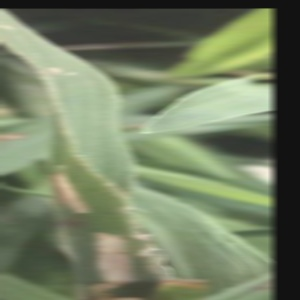Brown_Spot: (82, 217, 141, 290), (55, 162, 96, 213)
